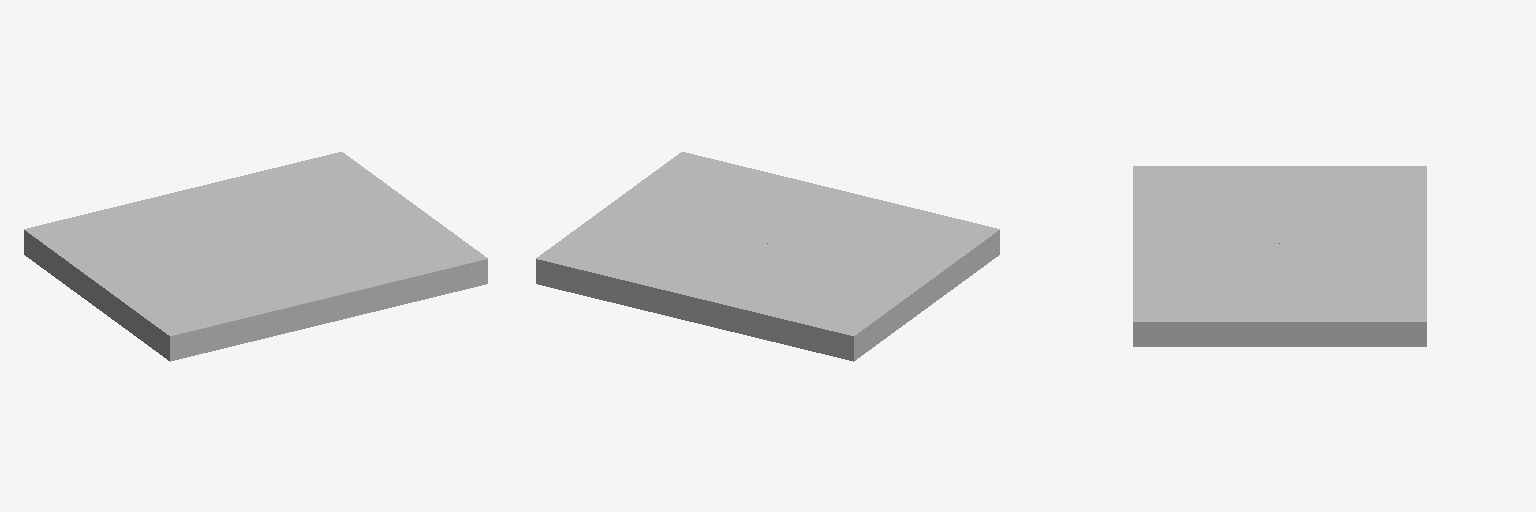
File: volcano.obj
3 renders of one model, left to right at view 1: azimuth 30°, elevation 25°; view 2: azimuth 150°, elevation 25°; view 3: azimuth 270°, elevation 25°, orthographic.
Parts seen in each view (by area): view 1: Cube_Cube.001; view 2: Cube_Cube.001; view 3: Cube_Cube.001.
Boxes of the visible parts, box(x1,y1,x2,y2) form: Cube_Cube.001: box(24, 152, 487, 361); Cube_Cube.001: box(536, 152, 999, 361); Cube_Cube.001: box(1133, 166, 1426, 346).
Size of the model in its own units: 263 by 20.82 by 210.